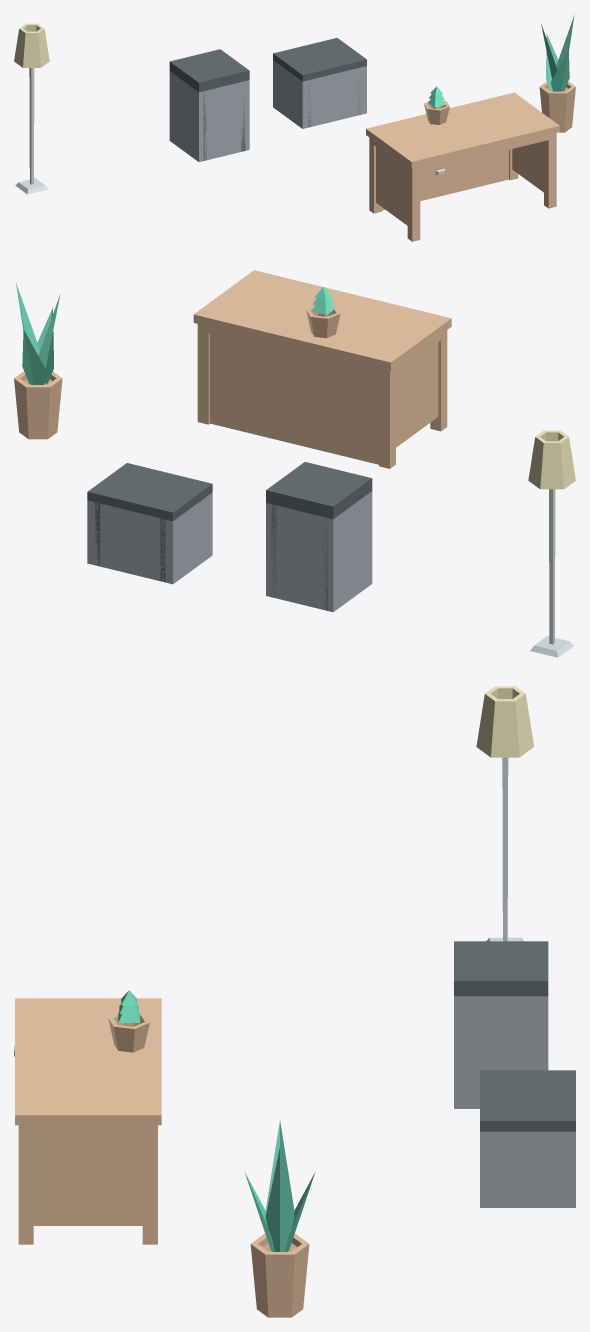
3 views of the same model, one above another, from view 1: azimuth 30°, elevation 25°; view 2: azimuth 150°, elevation 25°; view 3: azimuth 270°, elevation 25° (orthographic). The views are drawn at different scales.
Parts seen in each view (by area): view 1: desk_blue__desk(Clone), bin_gray__bin_gray shell, crate_red__crate_red shell, crate_red__crate_red lid, bin_gray__bin_gray lid, lamp_white__lampRoundFloor(Clone), plant_pink__pottedPlant(Clone), plant_pink__plant, flowerpot_green__plantSmall1(Clone), desk_blue__drawer; view 2: desk_blue__desk(Clone), bin_gray__bin_gray shell, crate_red__crate_red shell, crate_red__crate_red lid, bin_gray__bin_gray lid, lamp_white__lampRoundFloor(Clone), plant_pink__pottedPlant(Clone), plant_pink__plant, flowerpot_green__plantSmall1(Clone), crate_red__crate_red band.001; view 3: desk_blue__desk(Clone), bin_gray__bin_gray shell, crate_red__crate_red shell, crate_red__crate_red lid, bin_gray__bin_gray lid, lamp_white__lampRoundFloor(Clone), plant_pink__pottedPlant(Clone), plant_pink__plant, flowerpot_green__plantSmall1(Clone).
Boxes of the visible parts, x1,y1,x2,y2 form: desk_blue__desk(Clone): (366, 92, 559, 241); bin_gray__bin_gray shell: (169, 71, 249, 161); crate_red__crate_red shell: (273, 60, 366, 128); crate_red__crate_red lid: (273, 38, 366, 81); bin_gray__bin_gray lid: (169, 49, 249, 92); lamp_white__lampRoundFloor(Clone): (14, 23, 49, 194); plant_pink__pottedPlant(Clone): (539, 81, 575, 132); plant_pink__plant: (541, 15, 574, 91); flowerpot_green__plantSmall1(Clone): (424, 86, 449, 124); desk_blue__drawer: (420, 161, 460, 181); desk_blue__desk(Clone): (193, 270, 451, 468); bin_gray__bin_gray shell: (266, 491, 372, 612); crate_red__crate_red shell: (87, 492, 212, 584); crate_red__crate_red lid: (87, 463, 212, 521); bin_gray__bin_gray lid: (266, 462, 372, 519); lamp_white__lampRoundFloor(Clone): (528, 430, 575, 657); plant_pink__pottedPlant(Clone): (14, 371, 62, 439); plant_pink__plant: (16, 283, 60, 384); flowerpot_green__plantSmall1(Clone): (306, 287, 340, 338); crate_red__crate_red band.001: (95, 464, 138, 566); desk_blue__desk(Clone): (15, 998, 161, 1244); bin_gray__bin_gray shell: (454, 996, 548, 1108); crate_red__crate_red shell: (480, 1131, 575, 1207); crate_red__crate_red lid: (480, 1070, 575, 1131); bin_gray__bin_gray lid: (454, 941, 548, 996); lamp_white__lampRoundFloor(Clone): (476, 686, 533, 941); plant_pink__pottedPlant(Clone): (250, 1233, 309, 1317); plant_pink__plant: (244, 1121, 315, 1251); flowerpot_green__plantSmall1(Clone): (108, 990, 149, 1052).
Bounding box in the file's own units: 4.38 × 1.37 × 2.72.
